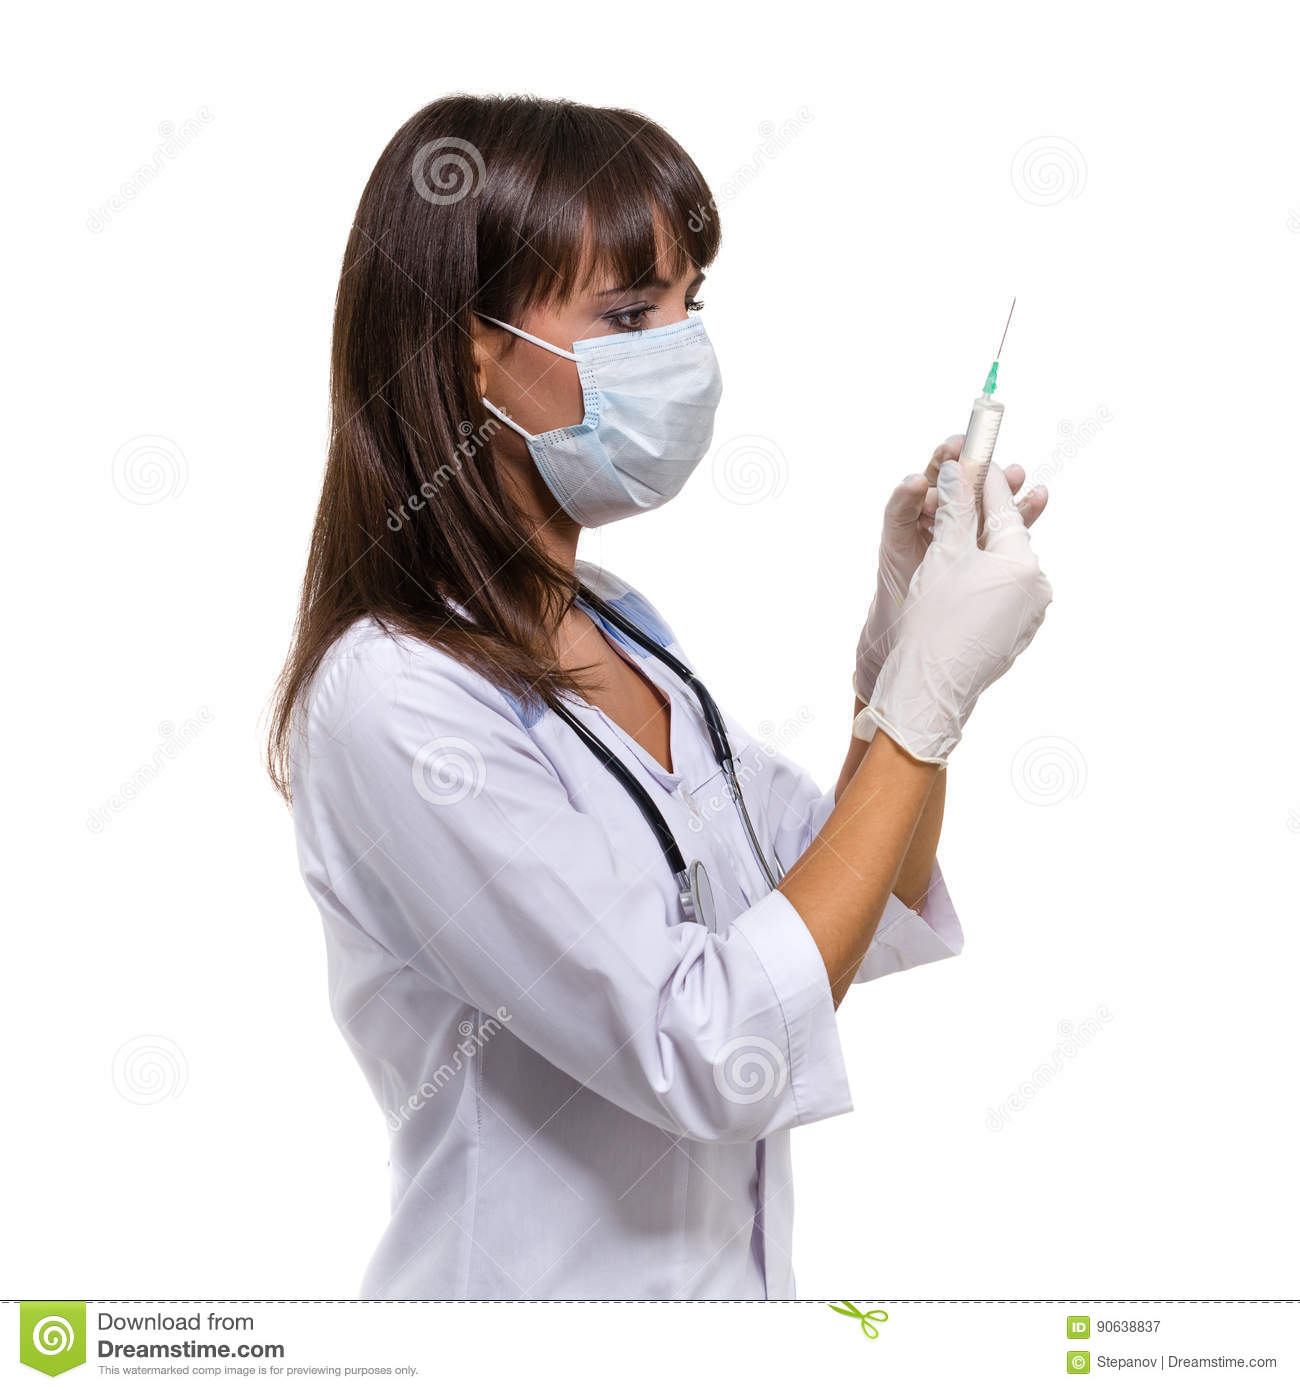mask: (522, 319, 743, 537)
